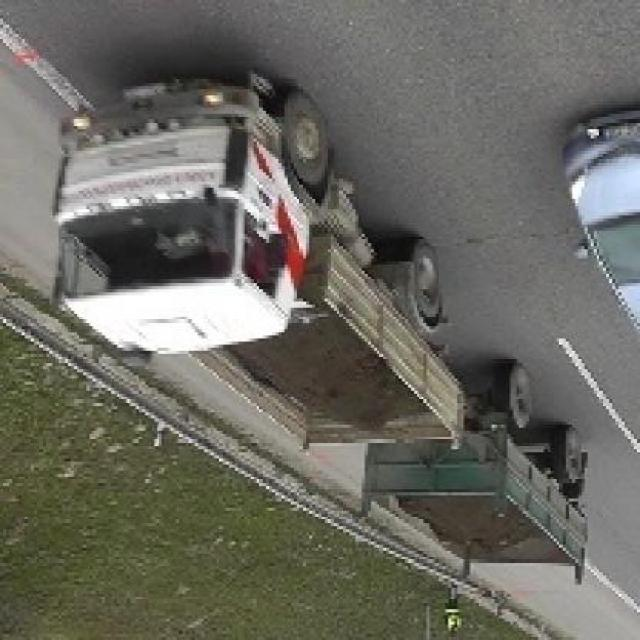truck: (56, 66, 592, 610)
